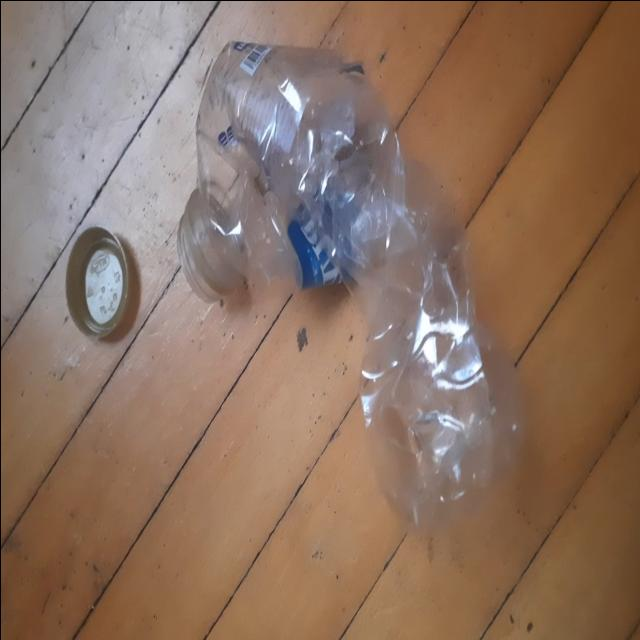Plastic: (181, 40, 521, 536)
